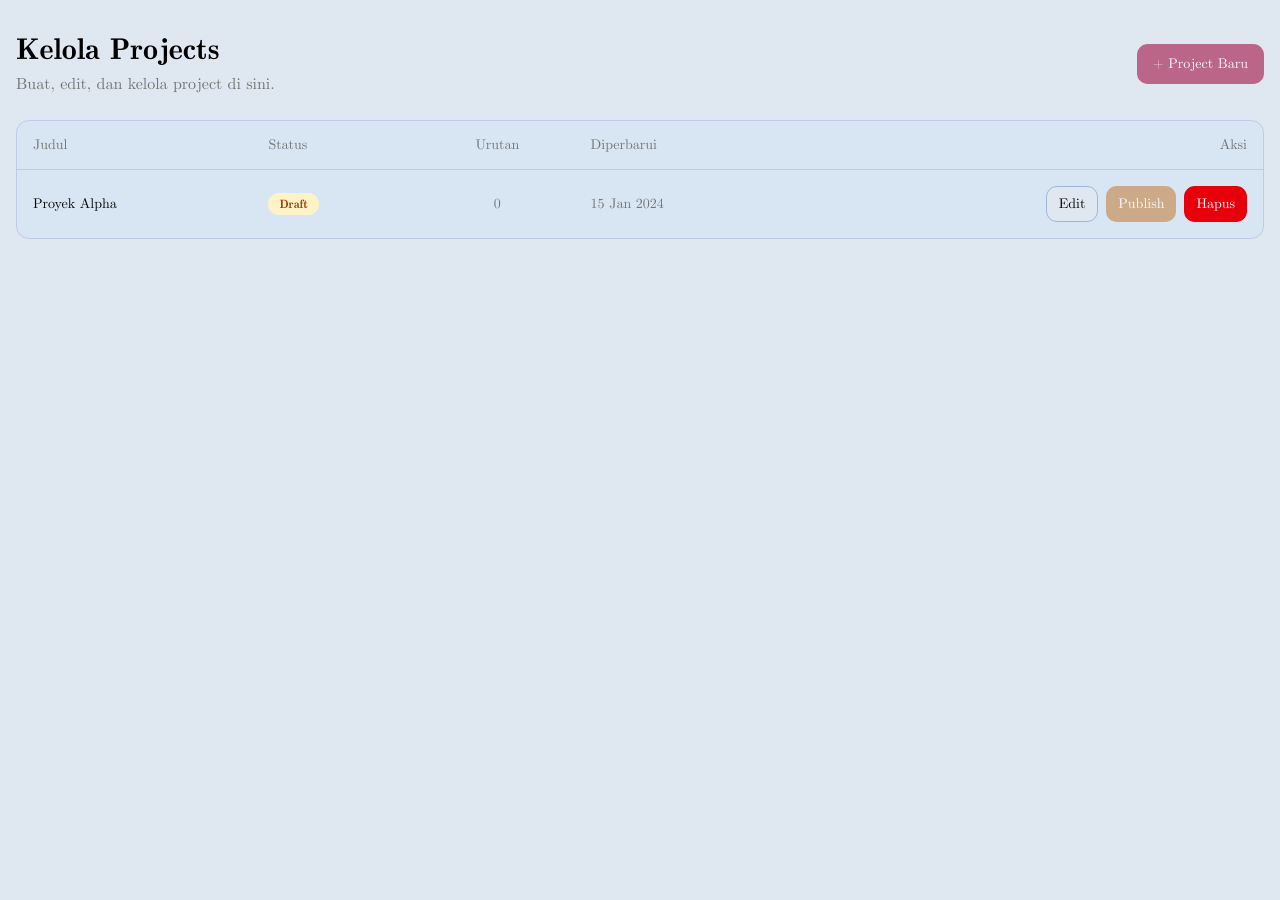
Test: ProjectsAdminPage › menampilkan error banner saat publishProject gagal
Click the button with test id "publish-project-button".
click(1141, 204)  # box [1106, 186, 1176, 222]
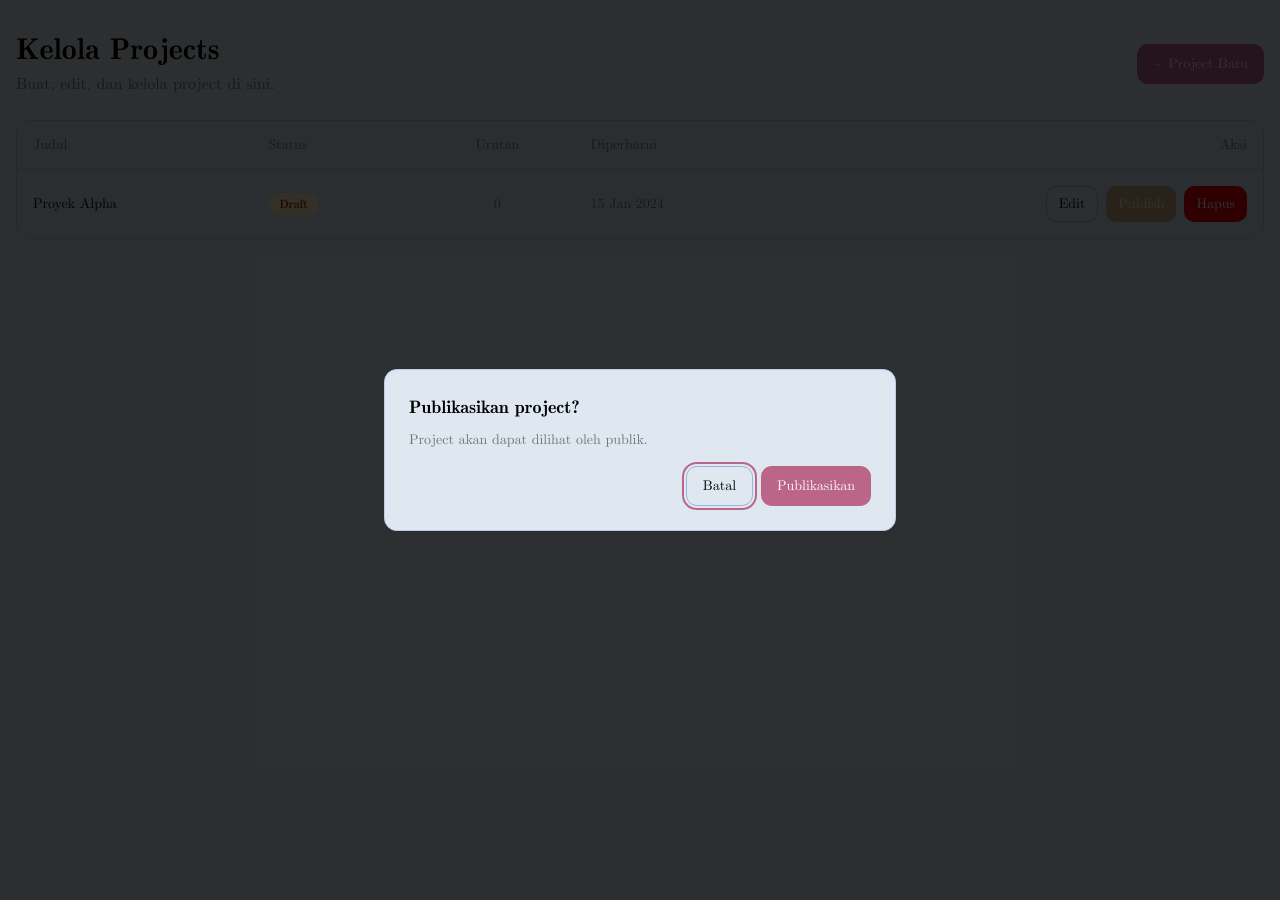
Click the button with test id "confirm-action-button".
click(816, 486)  # box [761, 466, 871, 506]
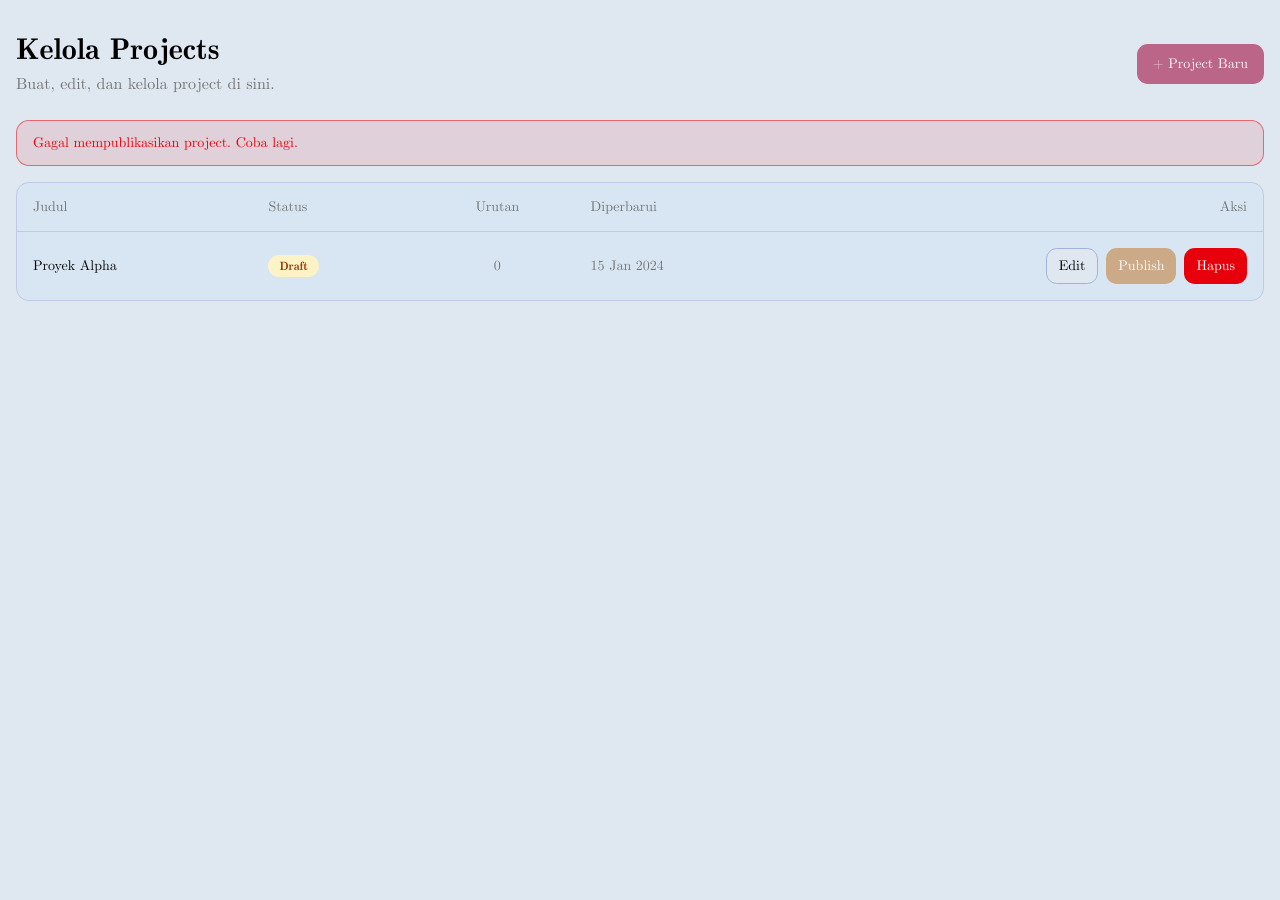
expect the text "Gagal mempublikasikan project. Coba lagi." is shown: met, box [16, 120, 1264, 166]
